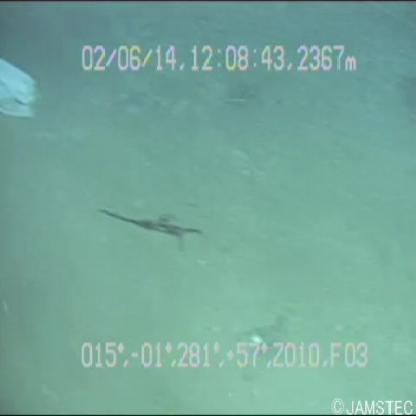Rác: (1, 54, 47, 130)
